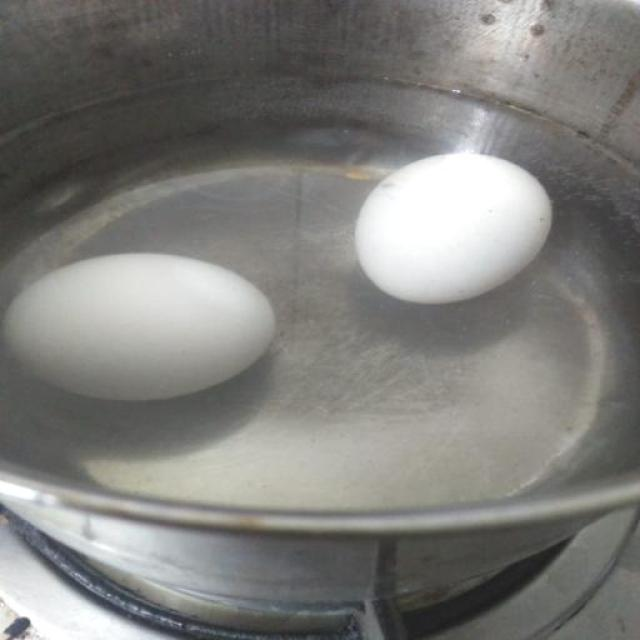telur: (5, 252, 274, 403), (353, 152, 550, 304)
